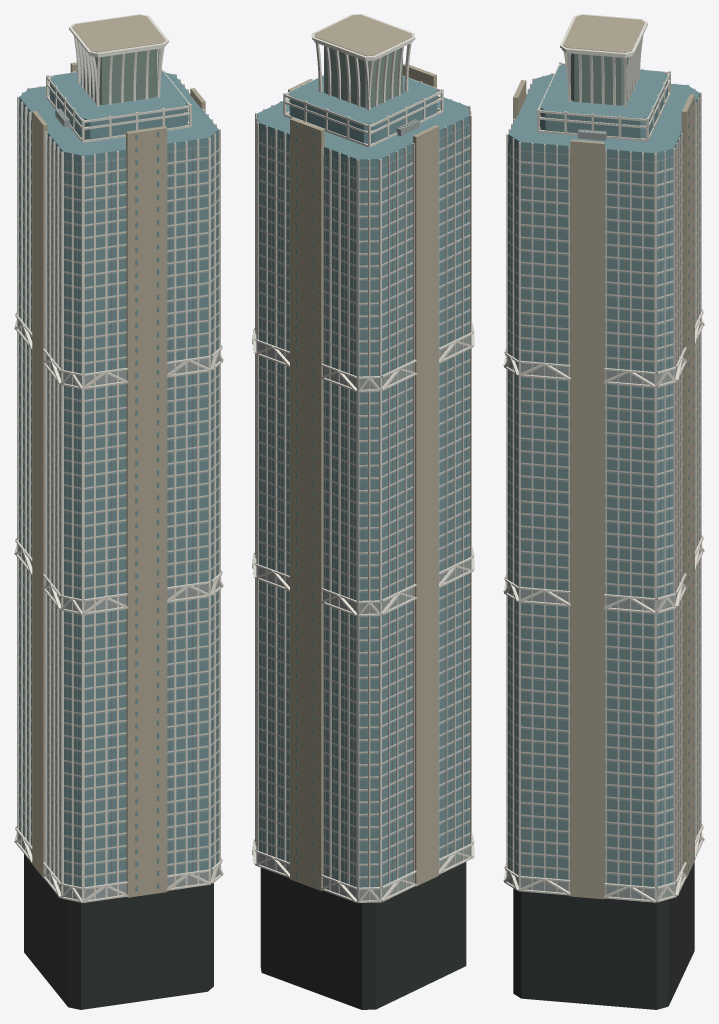
Rendered from bespoke-hyperion-a.glb.
3 renders of one model, left to right at view 1: azimuth 30°, elevation 25°; view 2: azimuth 150°, elevation 25°; view 3: azimuth 270°, elevation 25°, orthographic.
Parts seen in each view (by area): view 1: A_03_blue_grey_window_divisions003, A_02_ivory_floor_and_column_frames, A_04_warm_stone_central_axis003_1, A_01_chamfered_corner_wings003_1, A_03_blue_grey_window_divisions003_1, A_03_blue_grey_window_divisions003_2, A_01_chamfered_corner_wings003, A_05_engineer_documented_white_diagonal_belts003, A_06_flared_colonnade_and_stepped_penthouse003_1, A_05_engineer_documented_white_diagonal_belts003_1, A_06_flared_colonnade_and_stepped_penthouse003_4, A_06_flared_colonnade_and_stepped_penthouse003_5 (+3 smaller); view 2: A_03_blue_grey_window_divisions003, A_02_ivory_floor_and_column_frames, A_04_warm_stone_central_axis003_1, A_01_chamfered_corner_wings003_1, A_03_blue_grey_window_divisions003_1, A_03_blue_grey_window_divisions003_2, A_01_chamfered_corner_wings003, A_05_engineer_documented_white_diagonal_belts003, A_06_flared_colonnade_and_stepped_penthouse003_1, A_05_engineer_documented_white_diagonal_belts003_1, A_06_flared_colonnade_and_stepped_penthouse003_4, A_06_flared_colonnade_and_stepped_penthouse003_5 (+3 smaller); view 3: A_03_blue_grey_window_divisions003, A_02_ivory_floor_and_column_frames, A_04_warm_stone_central_axis003_1, A_01_chamfered_corner_wings003_1, A_03_blue_grey_window_divisions003_1, A_03_blue_grey_window_divisions003_2, A_01_chamfered_corner_wings003, A_05_engineer_documented_white_diagonal_belts003, A_06_flared_colonnade_and_stepped_penthouse003_1, A_05_engineer_documented_white_diagonal_belts003_1, A_06_flared_colonnade_and_stepped_penthouse003_2, A_06_flared_colonnade_and_stepped_penthouse003_4 (+3 smaller).
Boxes of the visible parts, <box> form: A_03_blue_grey_window_divisions003: <box>19,106,218,886</box>; A_02_ivory_floor_and_column_frames: <box>17,71,220,902</box>; A_04_warm_stone_central_axis003_1: <box>32,62,205,897</box>; A_01_chamfered_corner_wings003_1: <box>24,854,213,1009</box>; A_03_blue_grey_window_divisions003_1: <box>19,107,218,886</box>; A_03_blue_grey_window_divisions003_2: <box>19,105,218,878</box>; A_01_chamfered_corner_wings003: <box>19,72,218,881</box>; A_05_engineer_documented_white_diagonal_belts003: <box>14,312,223,902</box>; A_06_flared_colonnade_and_stepped_penthouse003_1: <box>50,70,187,139</box>; A_05_engineer_documented_white_diagonal_belts003_1: <box>18,315,219,899</box>; A_06_flared_colonnade_and_stepped_penthouse003_4: <box>69,14,168,106</box>; A_06_flared_colonnade_and_stepped_penthouse003_5: <box>81,49,156,104</box>; A_03_blue_grey_window_divisions003: <box>259,125,469,887</box>; A_02_ivory_floor_and_column_frames: <box>255,98,471,902</box>; A_04_warm_stone_central_axis003_1: <box>288,63,438,890</box>; A_01_chamfered_corner_wings003_1: <box>260,862,466,1009</box>; A_03_blue_grey_window_divisions003_1: <box>259,125,469,887</box>; A_03_blue_grey_window_divisions003_2: <box>259,124,469,879</box>; A_01_chamfered_corner_wings003: <box>257,95,469,877</box>; A_05_engineer_documented_white_diagonal_belts003: <box>252,322,474,902</box>; A_06_flared_colonnade_and_stepped_penthouse003_1: <box>289,75,437,143</box>; A_05_engineer_documented_white_diagonal_belts003_1: <box>258,335,470,900</box>; A_06_flared_colonnade_and_stepped_penthouse003_4: <box>311,14,415,110</box>; A_06_flared_colonnade_and_stepped_penthouse003_5: <box>324,46,402,108</box>; A_03_blue_grey_window_divisions003: <box>508,115,699,886</box>; A_02_ivory_floor_and_column_frames: <box>506,73,701,902</box>; A_04_warm_stone_central_axis003_1: <box>513,80,694,899</box>; A_01_chamfered_corner_wings003_1: <box>513,862,694,1009</box>; A_03_blue_grey_window_divisions003_1: <box>508,103,700,886</box>; A_03_blue_grey_window_divisions003_2: <box>508,102,699,878</box>; A_01_chamfered_corner_wings003: <box>508,74,699,877</box>; A_05_engineer_documented_white_diagonal_belts003: <box>503,309,704,902</box>; A_06_flared_colonnade_and_stepped_penthouse003_1: <box>540,64,667,138</box>; A_05_engineer_documented_white_diagonal_belts003_1: <box>507,312,700,899</box>; A_06_flared_colonnade_and_stepped_penthouse003_2: <box>563,15,644,52</box>; A_06_flared_colonnade_and_stepped_penthouse003_4: <box>560,14,647,106</box>.
Bounding box in the file's own units: 48.94 × 256 × 49.73.
